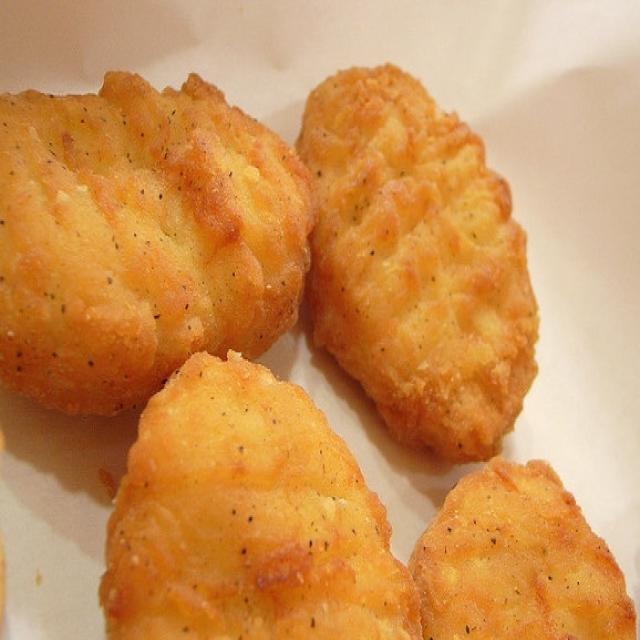鸡肉料理 含炸鸡: (20, 34, 599, 634)
